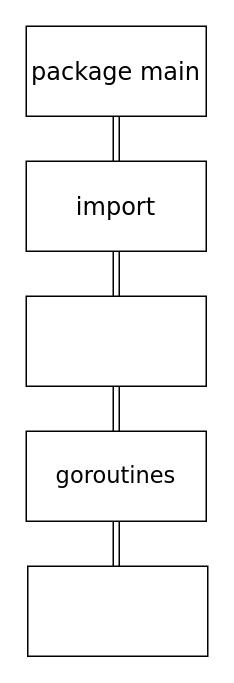
The diagram is 234 pixels wide and 683 high, and some of its shapes have lost their labels. The box of each missing label's shape, as (x1, y1, x2, y2) in pixels:
main function: (26, 565, 208, 656)
var: (25, 295, 206, 386)
